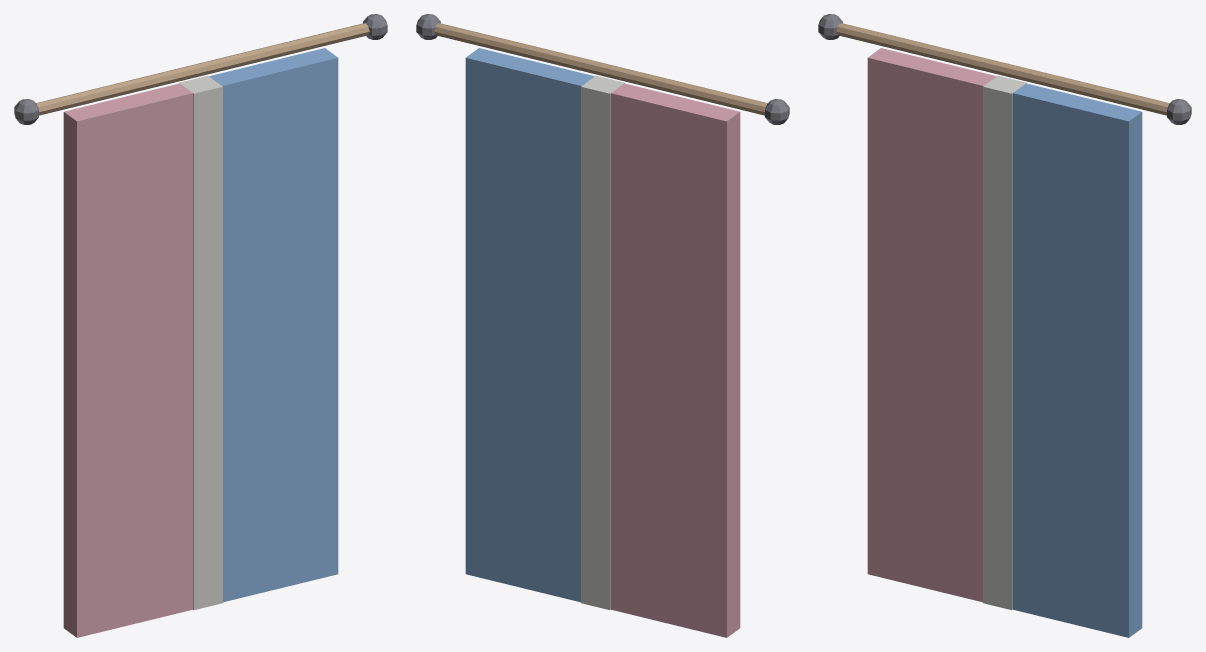
File: kid_cortina_inf.glb
The picture shows the model from 3 angles, left to right: view 1: azimuth 30°, elevation 25°; view 2: azimuth 150°, elevation 25°; view 3: azimuth 330°, elevation 25°; orthographic projection.
Visible parts, largest first — view 1: KID_CORTINA_INF_v01; view 2: KID_CORTINA_INF_v01; view 3: KID_CORTINA_INF_v01.
Part boxes in pixels (<box>): KID_CORTINA_INF_v01: <box>14,14,387,637</box>; KID_CORTINA_INF_v01: <box>416,14,789,637</box>; KID_CORTINA_INF_v01: <box>818,14,1191,637</box>.
Size of the model in its own units: 1.28 by 1.79 by 0.09.
